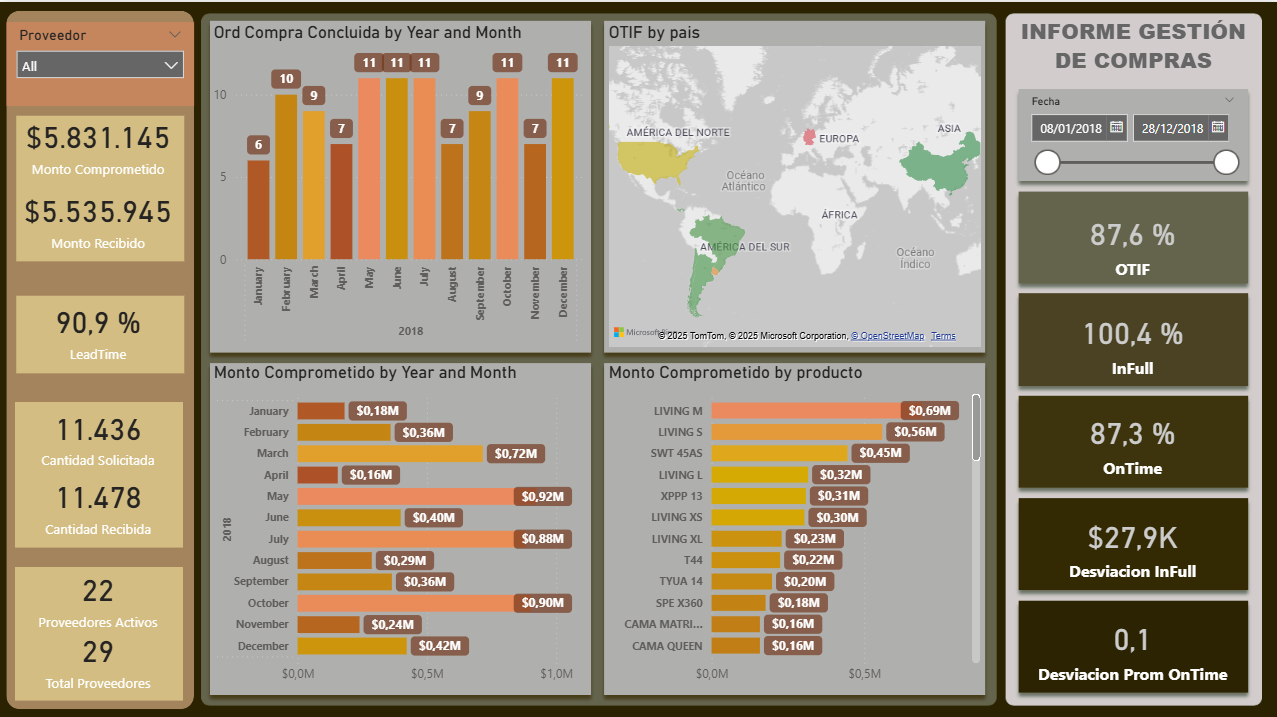

Layout of this report page (visuals, bound fields, positions):
{"tool":"powerbi","page":{"name":"Resumen Gestion Compra","canvas":[1280,720],"ordinal":0},"visuals":[{"type":"shape","box":[6,9,187.8,698.4],"z":0},{"type":"shape","box":[15.7,113.4,167.7,146],"z":500},{"type":"shape","box":[15.7,293.2,167.7,77.2],"z":750},{"type":"shape","box":[14.5,400.5,167.7,146],"z":875},{"type":"shape","box":[14.5,564.6,167.7,133.9],"z":937},{"type":"card","fields":{"Values":["ORDENES.Monto Comprometido"]},"box":[0,89.1,196.8,108.1],"z":1000},{"type":"card","fields":{"Values":["ORDENES.Monto Recibido"]},"box":[0,162.7,196.8,108.1],"z":2000},{"type":"clusteredColumnChart","title":"Ord Compra Concluida por Año y Mes","fields":{"Category":["ORDENES.Fecha.Variation.Date Hierarchy.Year","ORDENES.Fecha.Variation.Date Hierarchy.Month"],"Y":["ORDENES.Ord. Compra Concluida"]},"box":[208.8,19.5,381.5,330.4],"z":3000},{"type":"card","fields":{"Values":["ORDENES.Cantidad Solicitada"]},"box":[0,379.5,196.8,108.1],"z":5000},{"type":"card","fields":{"Values":["ORDENES.Cantidad Recibida"]},"box":[0,448.6,196.8,108.1],"z":6000},{"type":"card","fields":{"Values":["ORDENES.InFull"]},"box":[1018.4,297.4,228.3,85.6],"z":7000},{"type":"card","fields":{"Values":["ORDENES.OnTime"]},"box":[1018.4,398,228.3,85.6],"z":8000},{"type":"card","fields":{"Values":["ORDENES.OTIF"]},"box":[1018.4,198.3,228.3,85.6],"z":9000},{"type":"card","fields":{"Values":["ORDENES.Desviacion InFull"]},"box":[1018.4,501.7,228.3,85.6],"z":10000},{"type":"card","fields":{"Values":["ORDENES.Desviacion Prom OnTime"]},"box":[1018.4,603.8,228.3,85.6],"z":11000},{"type":"slicer","fields":{"Values":["ORDENES.Fecha"]},"box":[1018.4,87.1,228.3,93.1],"z":12000},{"type":"clusteredBarChart","title":"Monto Comprometido por Año y Mes","fields":{"Y":["ORDENES.Monto Comprometido"],"Category":["ORDENES.Fecha.Variation.Date Hierarchy.Year","ORDENES.Fecha.Variation.Date Hierarchy.Month"]},"box":[208.8,360.5,381.5,330.4],"z":13000},{"type":"clusteredBarChart","title":"Monto Comprometido por Producto","fields":{"Y":["ORDENES.Monto Comprometido"],"Category":["PRODUCTOS.producto"]},"box":[603.8,360.5,381.5,330.4],"z":14000},{"type":"filledMap","title":"OTIF por País","fields":{"Category":["PROVEEDORES.pais"]},"box":[604,20,382,330],"z":15000},{"type":"card","fields":{"Values":["ORDENES.Proveedores Activos"]},"box":[0,541.7,196.6,108.6],"z":16000},{"type":"card","fields":{"Values":["ORDENES.Total Proveedores"]},"box":[0,602,196.6,108.6],"z":17000},{"type":"slicer","fields":{"Values":["PROVEEDORES.nom_prov"]},"box":[6,19.5,187.8,84.1],"z":18000},{"type":"textbox","box":[1004.8,9,256.8,78.1],"z":19000},{"type":"card","fields":{"Values":["ORDENES.LeadTime"]},"box":[0,273.4,196.8,108.1],"z":20000}]}

Visuals, with their boxes in screenshot pixels (x1, y1, x2, y2), scaled from the page's 1280x720 canvas onto the 1277x717 screenshot:
shape: region(6, 9, 193, 704)
shape: region(16, 113, 183, 258)
shape: region(16, 292, 183, 369)
shape: region(14, 399, 182, 544)
shape: region(14, 562, 182, 696)
card - ORDENES.Monto Comprometido: region(0, 89, 196, 196)
card - ORDENES.Monto Recibido: region(0, 162, 196, 270)
"Ord Compra Concluida por Año y Mes" clusteredColumnChart: region(208, 19, 589, 348)
card - ORDENES.Cantidad Solicitada: region(0, 378, 196, 486)
card - ORDENES.Cantidad Recibida: region(0, 447, 196, 554)
card - ORDENES.InFull: region(1016, 296, 1244, 381)
card - ORDENES.OnTime: region(1016, 396, 1244, 482)
card - ORDENES.OTIF: region(1016, 197, 1244, 283)
card - ORDENES.Desviacion InFull: region(1016, 500, 1244, 585)
card - ORDENES.Desviacion Prom OnTime: region(1016, 601, 1244, 687)
slicer - ORDENES.Fecha: region(1016, 87, 1244, 179)
"Monto Comprometido por Año y Mes" clusteredBarChart: region(208, 359, 589, 688)
"Monto Comprometido por Producto" clusteredBarChart: region(602, 359, 983, 688)
"OTIF por País" filledMap: region(603, 20, 984, 349)
card - ORDENES.Proveedores Activos: region(0, 539, 196, 648)
card - ORDENES.Total Proveedores: region(0, 599, 196, 708)
slicer - PROVEEDORES.nom_prov: region(6, 19, 193, 103)
textbox: region(1002, 9, 1259, 87)
card - ORDENES.LeadTime: region(0, 272, 196, 380)
